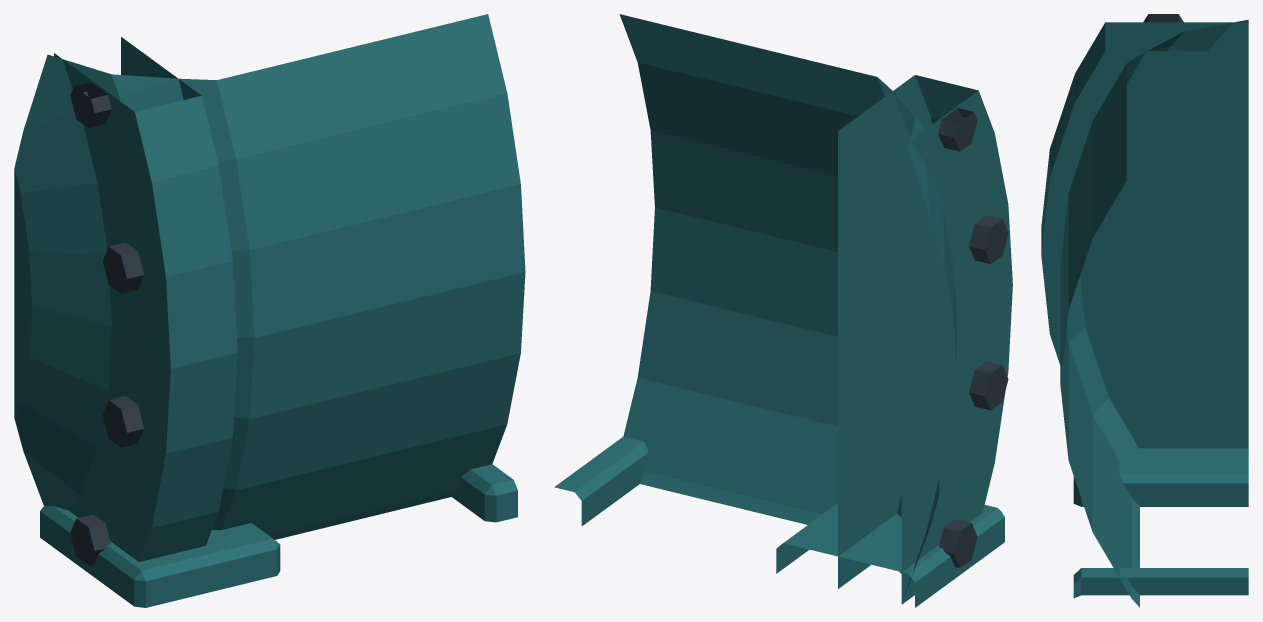
The model's file is cell_36.obj.
The picture shows the model from 3 angles, left to right: view 1: azimuth 30°, elevation 25°; view 2: azimuth 150°, elevation 25°; view 3: azimuth 270°, elevation 25°; orthographic projection. The views are drawn at different scales.
Bounding box in the file's own units: 0.8805 × 1 × 0.4398.
